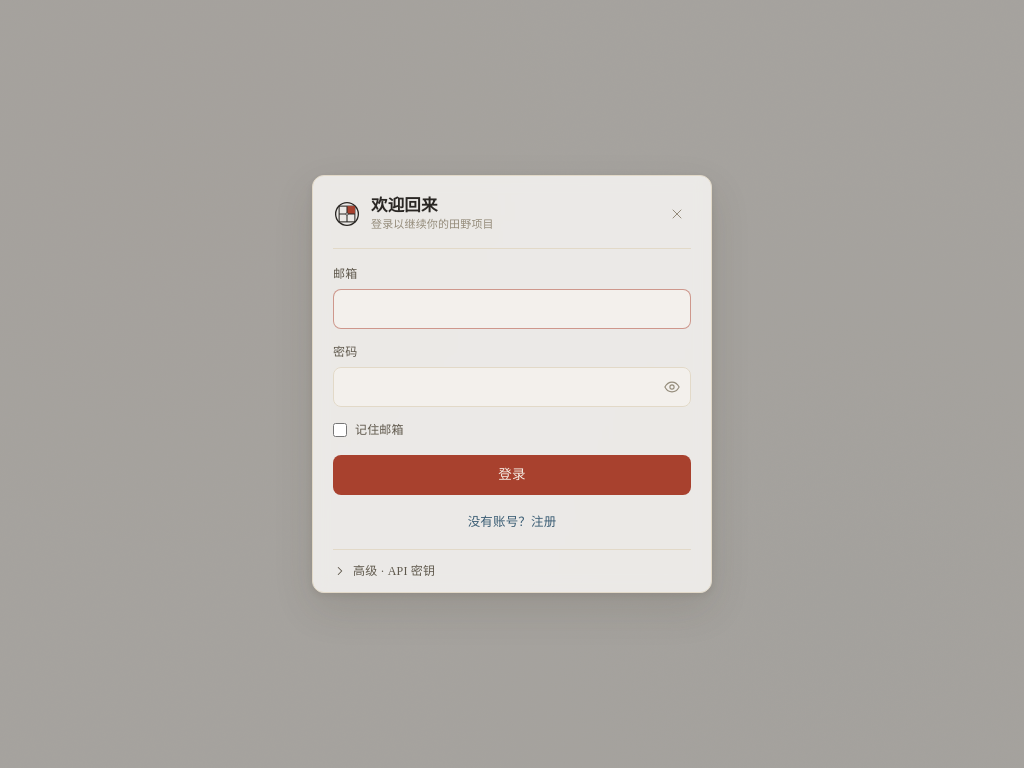
AuthDialog › 密码显隐切换：type password↔text，aria-pressed 与显隐钮 label 联动
The image size is (1024, 768).
Click the button named "显示密码".
click(672, 387)  # box [654,368,690,406]
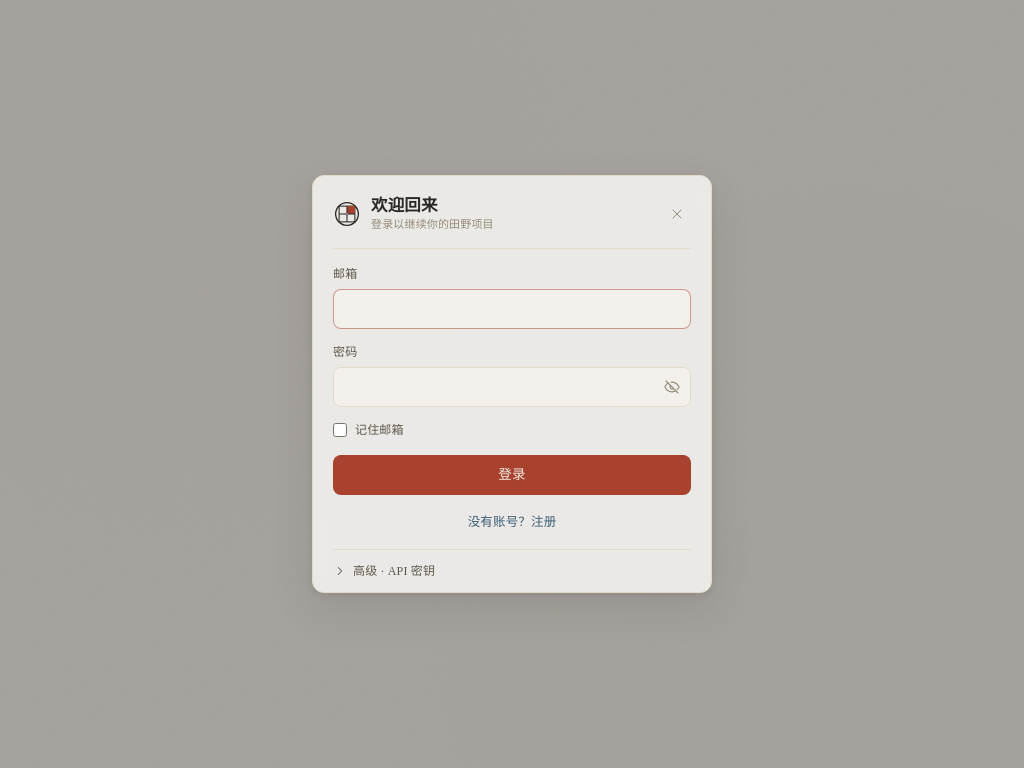
expect the button named "隐藏密码" is pressed: met
Click the button named "隐藏密码".
click(672, 387)  # box [654,368,690,406]
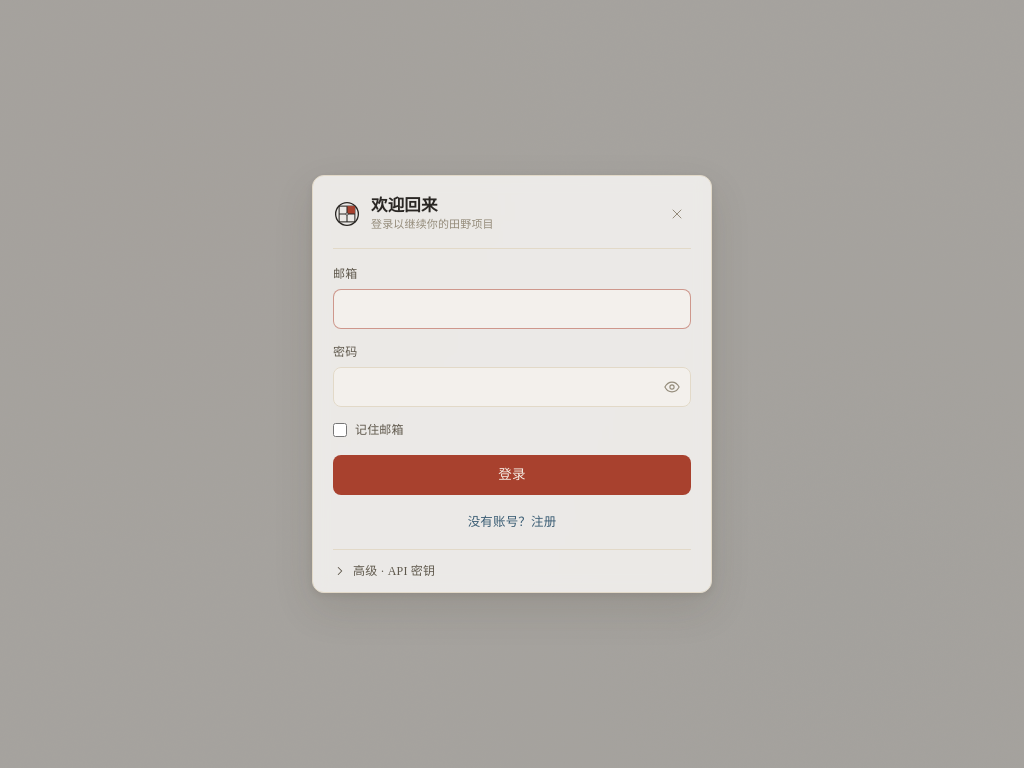
expect the button named "显示密码" is shown: met, box [654,368,690,406]
